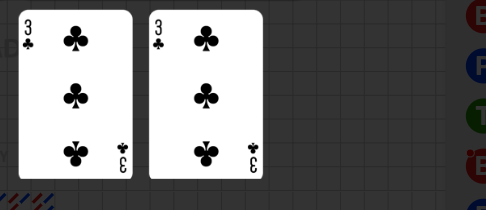3C: (115, 140, 130, 175), (246, 140, 261, 175)
